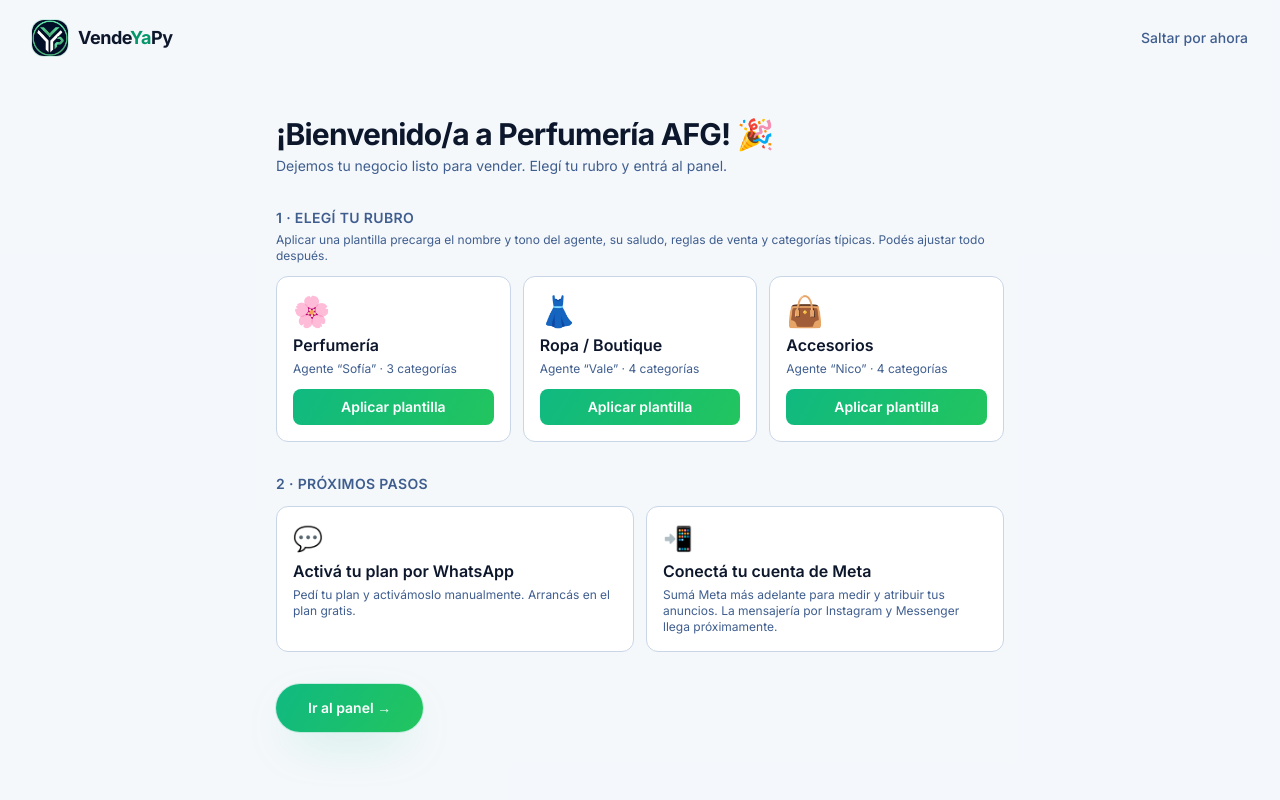
Test case: H-39 · aplicar la plantilla no falla en silencio › si «Ir al panel» falla, lo dice en vez de dejar al dueño esperando
Click the button "Ir al panel →".
click(350, 708)  # box [276, 684, 423, 732]
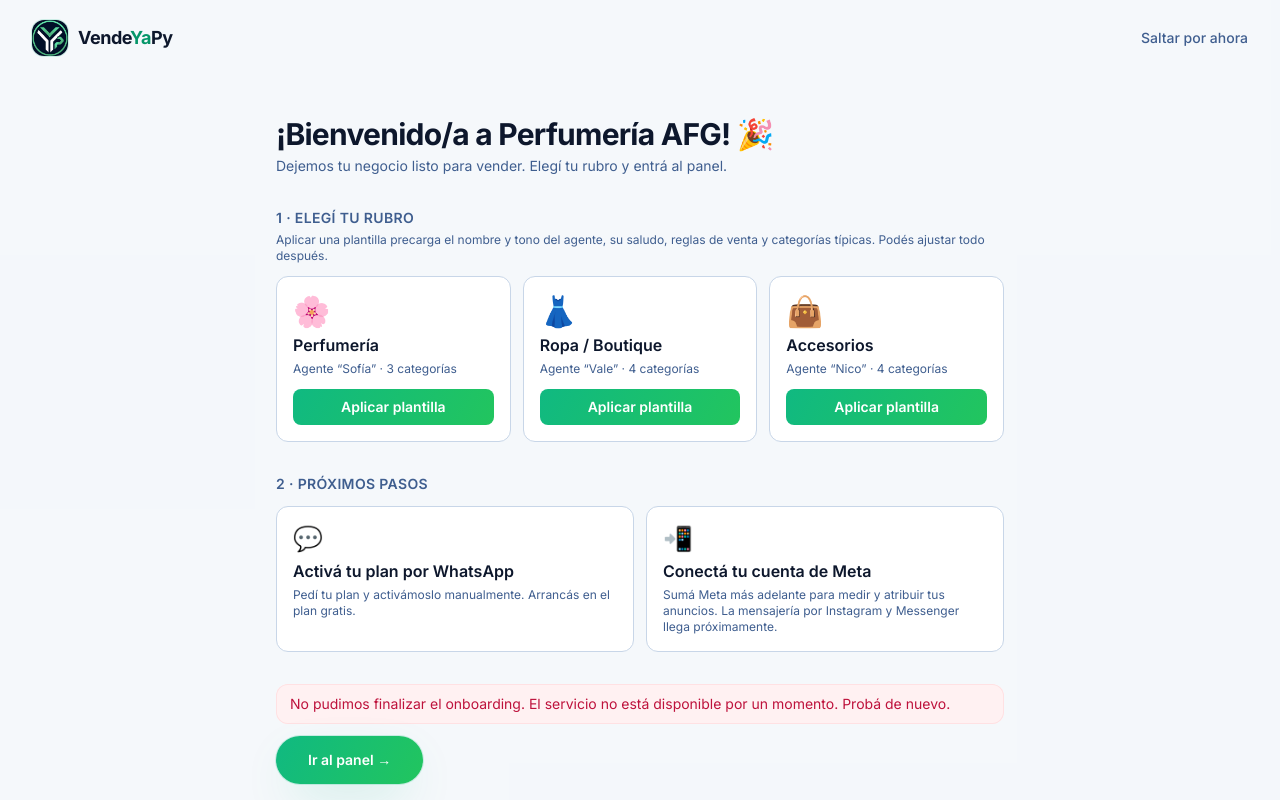
Now the message shows "No pudimos finalizar el onboarding", box [290, 695, 950, 712]
Now the message shows "no está disponible", box [290, 695, 950, 712]
